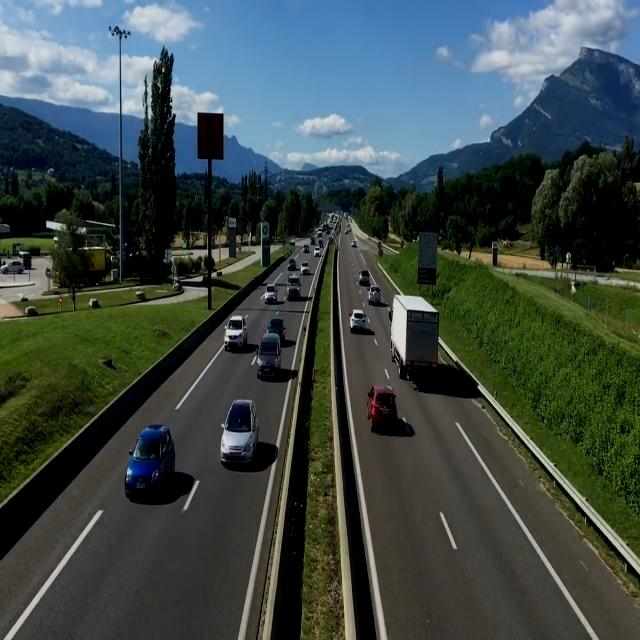Car: (123, 424, 176, 502), (219, 398, 259, 466), (366, 384, 399, 432), (254, 332, 282, 380), (222, 315, 248, 351), (265, 318, 286, 346), (349, 309, 367, 332), (1, 260, 24, 274), (366, 285, 382, 305), (264, 284, 278, 304), (359, 270, 370, 285), (300, 262, 311, 275), (288, 258, 296, 270), (313, 246, 321, 256), (302, 244, 310, 253), (350, 240, 358, 247)
Truck: (388, 294, 440, 382), (287, 272, 301, 300)
